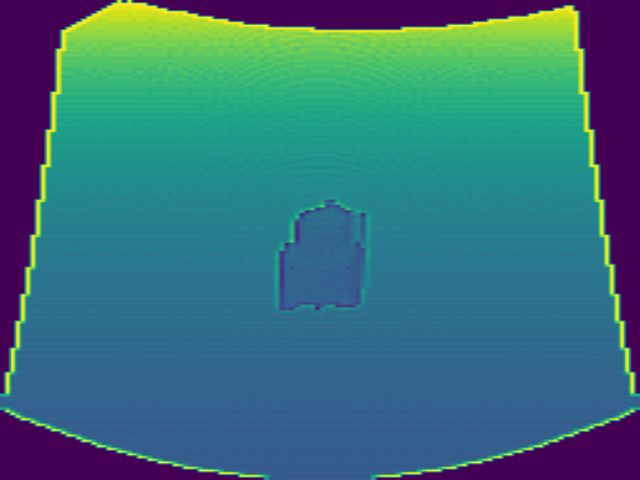car_0027: (269, 198, 369, 311)
